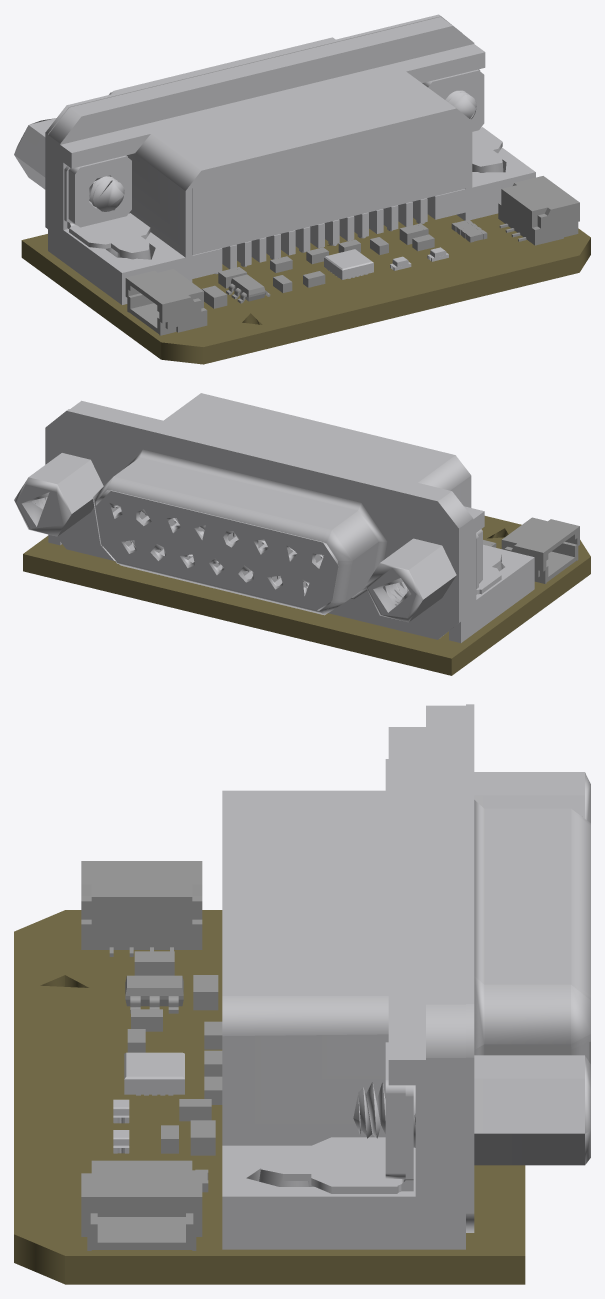
The model's file is ada-5753.glb.
3 views of the same model, one above another, from view 1: azimuth 30°, elevation 25°; view 2: azimuth 150°, elevation 25°; view 3: azimuth 270°, elevation 25° (orthographic). The views are drawn at different scales.
Parts seen in each view (by area): view 1: 0.5833333333333334_0.5833333333333334_0.5833333333333334_0.8, 0.16666666666666666_0.16666666666666666_0.08333333333333333_, 0.3333333333333333_0.3333333333333333_0.3333333333333333_0; view 2: 0.5833333333333334_0.5833333333333334_0.5833333333333334_0.8, 0.16666666666666666_0.16666666666666666_0.08333333333333333_, 0.3333333333333333_0.3333333333333333_0.3333333333333333_0; view 3: 0.5833333333333334_0.5833333333333334_0.5833333333333334_0.8, 0.16666666666666666_0.16666666666666666_0.08333333333333333_, 0.3333333333333333_0.3333333333333333_0.3333333333333333_0.
Boxes of the visible parts, x1=… form: 0.5833333333333334_0.5833333333333334_0.5833333333333334_0.8: x1=14, y1=14, x2=535, y2=304; 0.16666666666666666_0.16666666666666666_0.08333333333333333_: x1=21, y1=213, x2=590, y2=364; 0.3333333333333333_0.3333333333333333_0.3333333333333333_0: x1=125, y1=176, x2=579, y2=335; 0.5833333333333334_0.5833333333333334_0.5833333333333334_0.8: x1=14, y1=393, x2=534, y2=642; 0.16666666666666666_0.16666666666666666_0.08333333333333333_: x1=23, y1=516, x2=590, y2=675; 0.3333333333333333_0.3333333333333333_0.3333333333333333_0: x1=483, y1=517, x2=579, y2=583; 0.5833333333333334_0.5833333333333334_0.5833333333333334_0.8: x1=113, y1=704, x2=590, y2=1249; 0.16666666666666666_0.16666666666666666_0.08333333333333333_: x1=14, y1=910, x2=525, y2=1284; 0.3333333333333333_0.3333333333333333_0.3333333333333333_0: x1=81, y1=861, x2=222, y2=1250.
Size of the model in its own units: 4.06 by 1.57 by 2.87.
